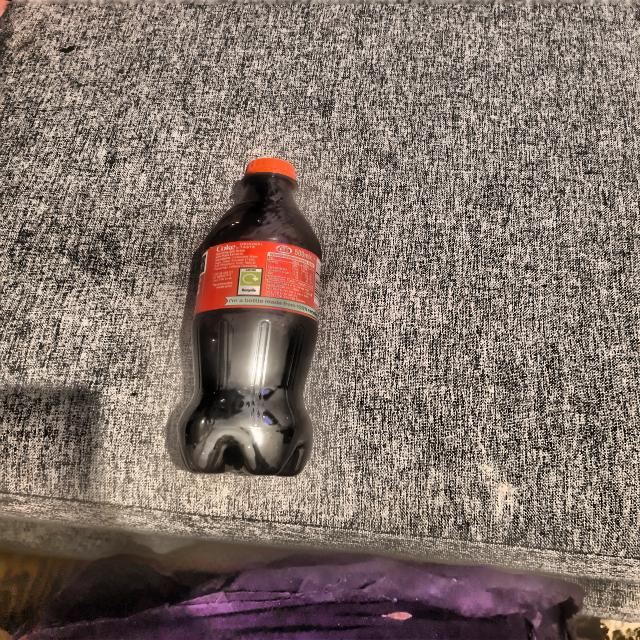coke-bottle: (184, 156, 318, 474)
